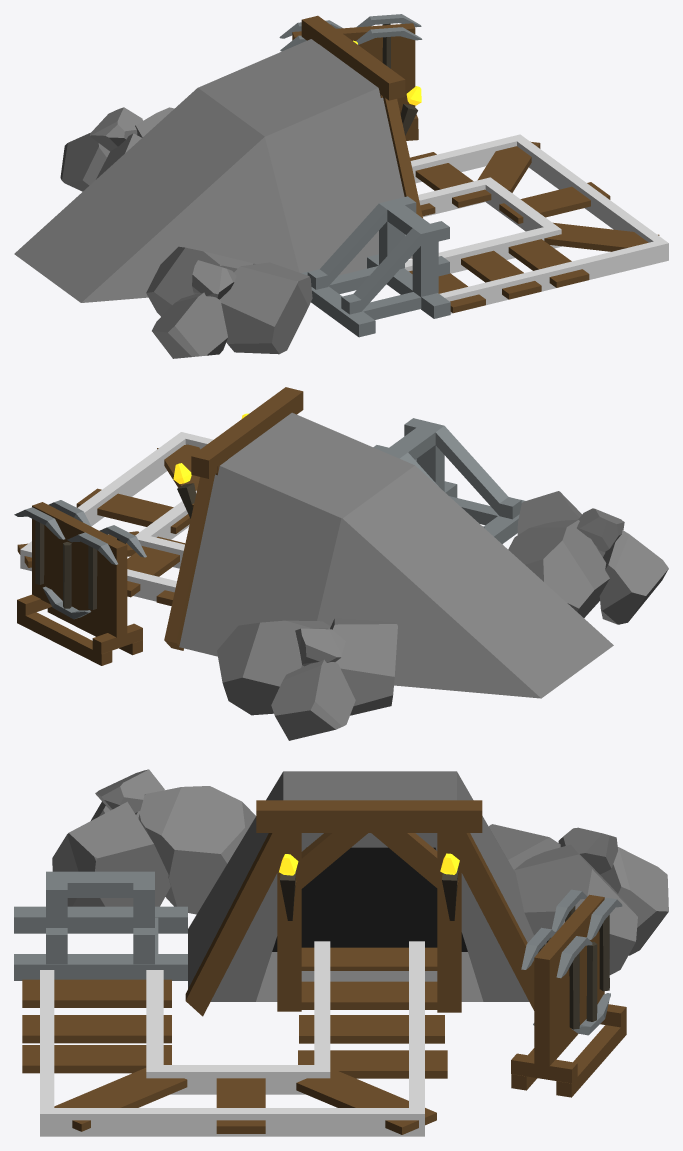
The model's file is StoneMineFlat2.fbx.
3 views of the same model, one above another, from view 1: azimuth 30°, elevation 25°; view 2: azimuth 150°, elevation 25°; view 3: azimuth 270°, elevation 25° (orthographic). The views are drawn at different scales.
Visible parts, largest first — view 1: Cube, Cube.079, Cube.023, Cube.015, Cube.022, Cube.014, Cube.003, Cube.043, Cube.036, Cube.011, Cube.077, Cube.018 (+10 smaller); view 2: Cube, Cube.036, Cube.006, Cube.079, Cube.043, Cube.011, Cube.012, Cube.014, Cube.023, Cube.003, Cube.029, Cube.074 (+14 smaller); view 3: Cube, Cube.023, Cube.079, Cube.043, Cube.022, Cube.003, Cube.006, Cube.015, Cube.036, Cube.030, Cube.029, Cube.001 (+28 smaller).
Boxes of the visible parts, x1,y1,x2,y2 form: Cube: (14, 39, 412, 302); Cube.079: (301, 196, 450, 337); Cube.023: (410, 134, 668, 313); Cube.015: (219, 262, 312, 354); Cube.022: (404, 177, 561, 273); Cube.014: (152, 292, 227, 358); Cube.003: (301, 15, 405, 100); Cube.043: (146, 246, 255, 316); Cube.036: (292, 23, 415, 112); Cube.011: (60, 133, 109, 191); Cube.077: (544, 222, 659, 251); Cube.018: (508, 239, 589, 287); Cube: (179, 412, 613, 698); Cube.036: (32, 502, 127, 637); Cube.006: (217, 620, 329, 715); Cube.079: (373, 418, 525, 544); Cube.043: (508, 519, 609, 617); Cube.011: (271, 659, 355, 740); Cube.012: (330, 618, 397, 715); Cube.014: (599, 530, 668, 624); Cube.023: (20, 432, 213, 601); Cube.003: (191, 387, 303, 478); Cube.029: (164, 475, 214, 650); Cube.074: (76, 488, 190, 533); Cube: (188, 771, 533, 1001); Cube.023: (40, 941, 424, 1136); Cube.079: (14, 871, 187, 980); Cube.043: (138, 786, 255, 914); Cube.022: (146, 941, 330, 1094); Cube.003: (256, 800, 482, 832); Cube.006: (514, 844, 637, 974); Cube.015: (52, 801, 170, 906); Cube.036: (534, 894, 604, 1066); Cube.030: (185, 833, 277, 1016); Cube.029: (461, 833, 534, 1010); Cube.001: (277, 825, 301, 1011).
Bounding box in the file's own units: 1168 × 408 × 1013.
